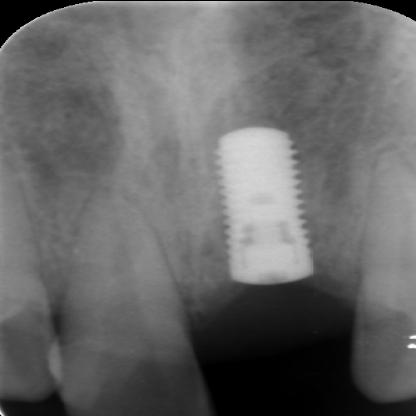ITI: (209, 124, 320, 288)
